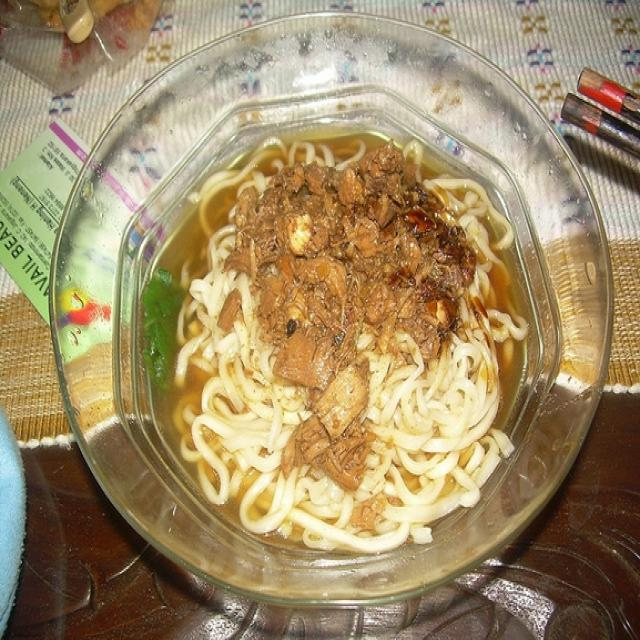面条主食: (41, 27, 608, 591)
